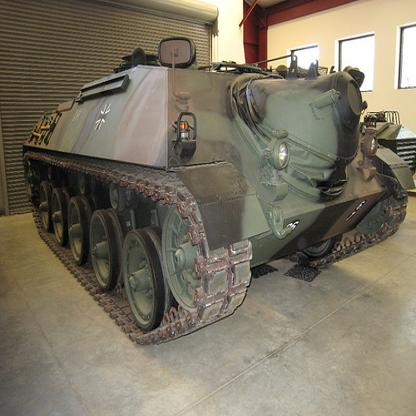Tank: (31, 35, 414, 355)
